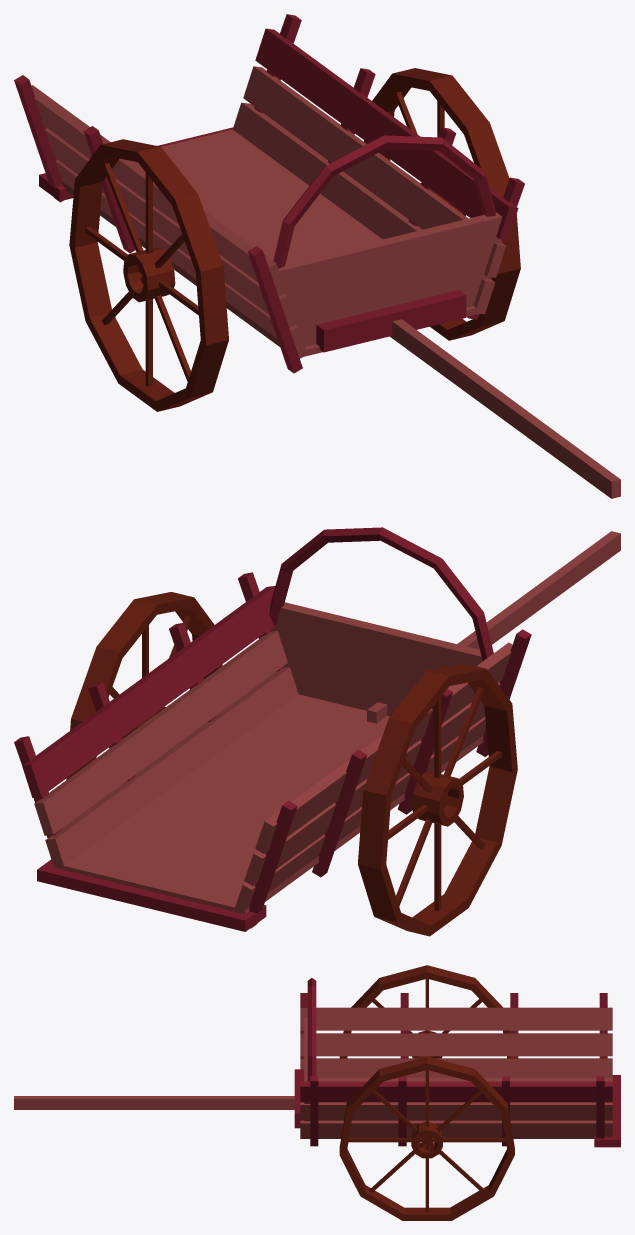
The model's file is cart-asset.fbx.
The picture shows the model from 3 angles, top to bottom: view 1: azimuth 30°, elevation 25°; view 2: azimuth 150°, elevation 25°; view 3: azimuth 270°, elevation 25°; orthographic projection. The views are drawn at different scales.
Parts seen in each view (by area): view 1: Carro; view 2: Carro; view 3: Carro.
Part boxes in pixels (bbox=[...]): Carro: bbox=[14, 14, 620, 498]; Carro: bbox=[14, 527, 620, 936]; Carro: bbox=[14, 965, 620, 1220].
Size of the model in its own units: 492 by 427 by 1265.
